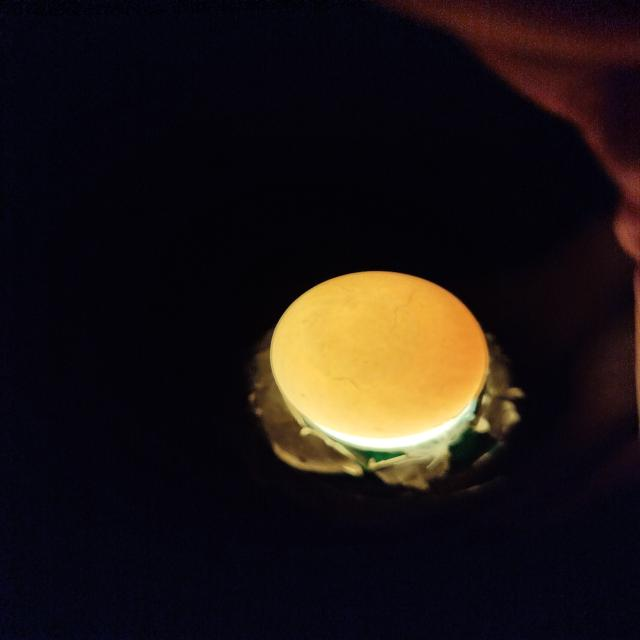Gema Quebrada: (273, 271, 486, 438)
